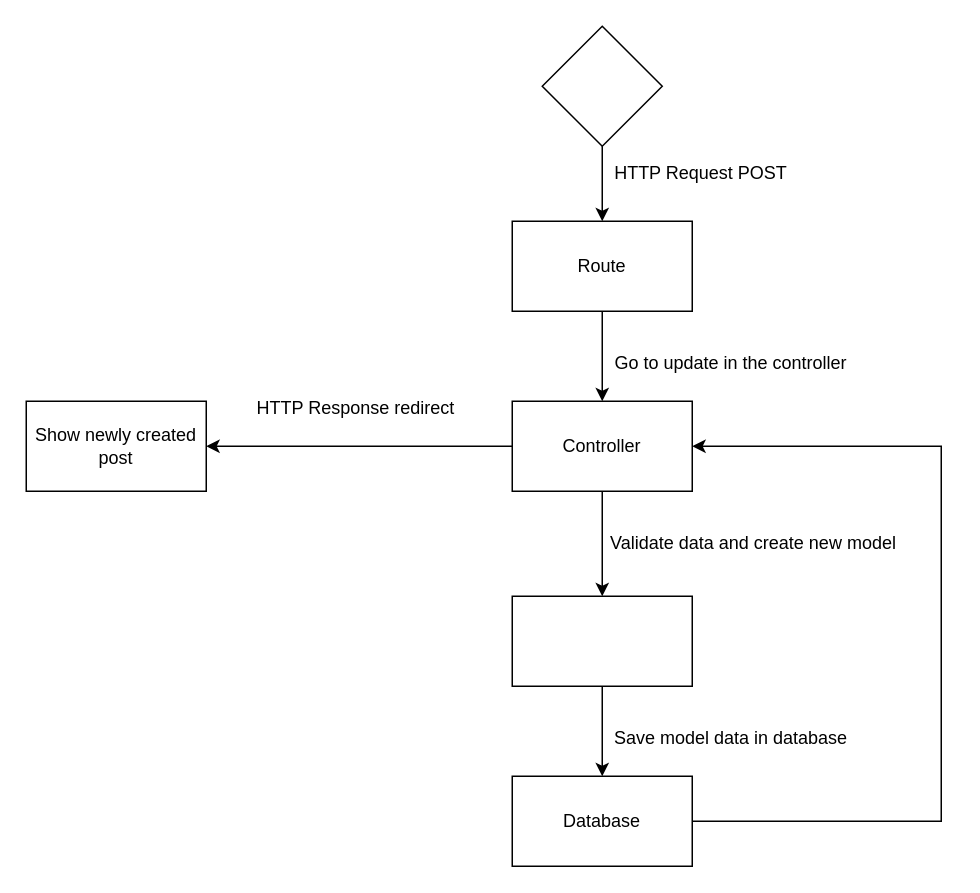
Some shapes in this 980 by 893 pixel diagram are drawn without their labels. The box of each missing label's shape, as (x1, y1, x2, y2) in pixels:
Model: (511, 595, 692, 686)
Start: (541, 25, 662, 146)
